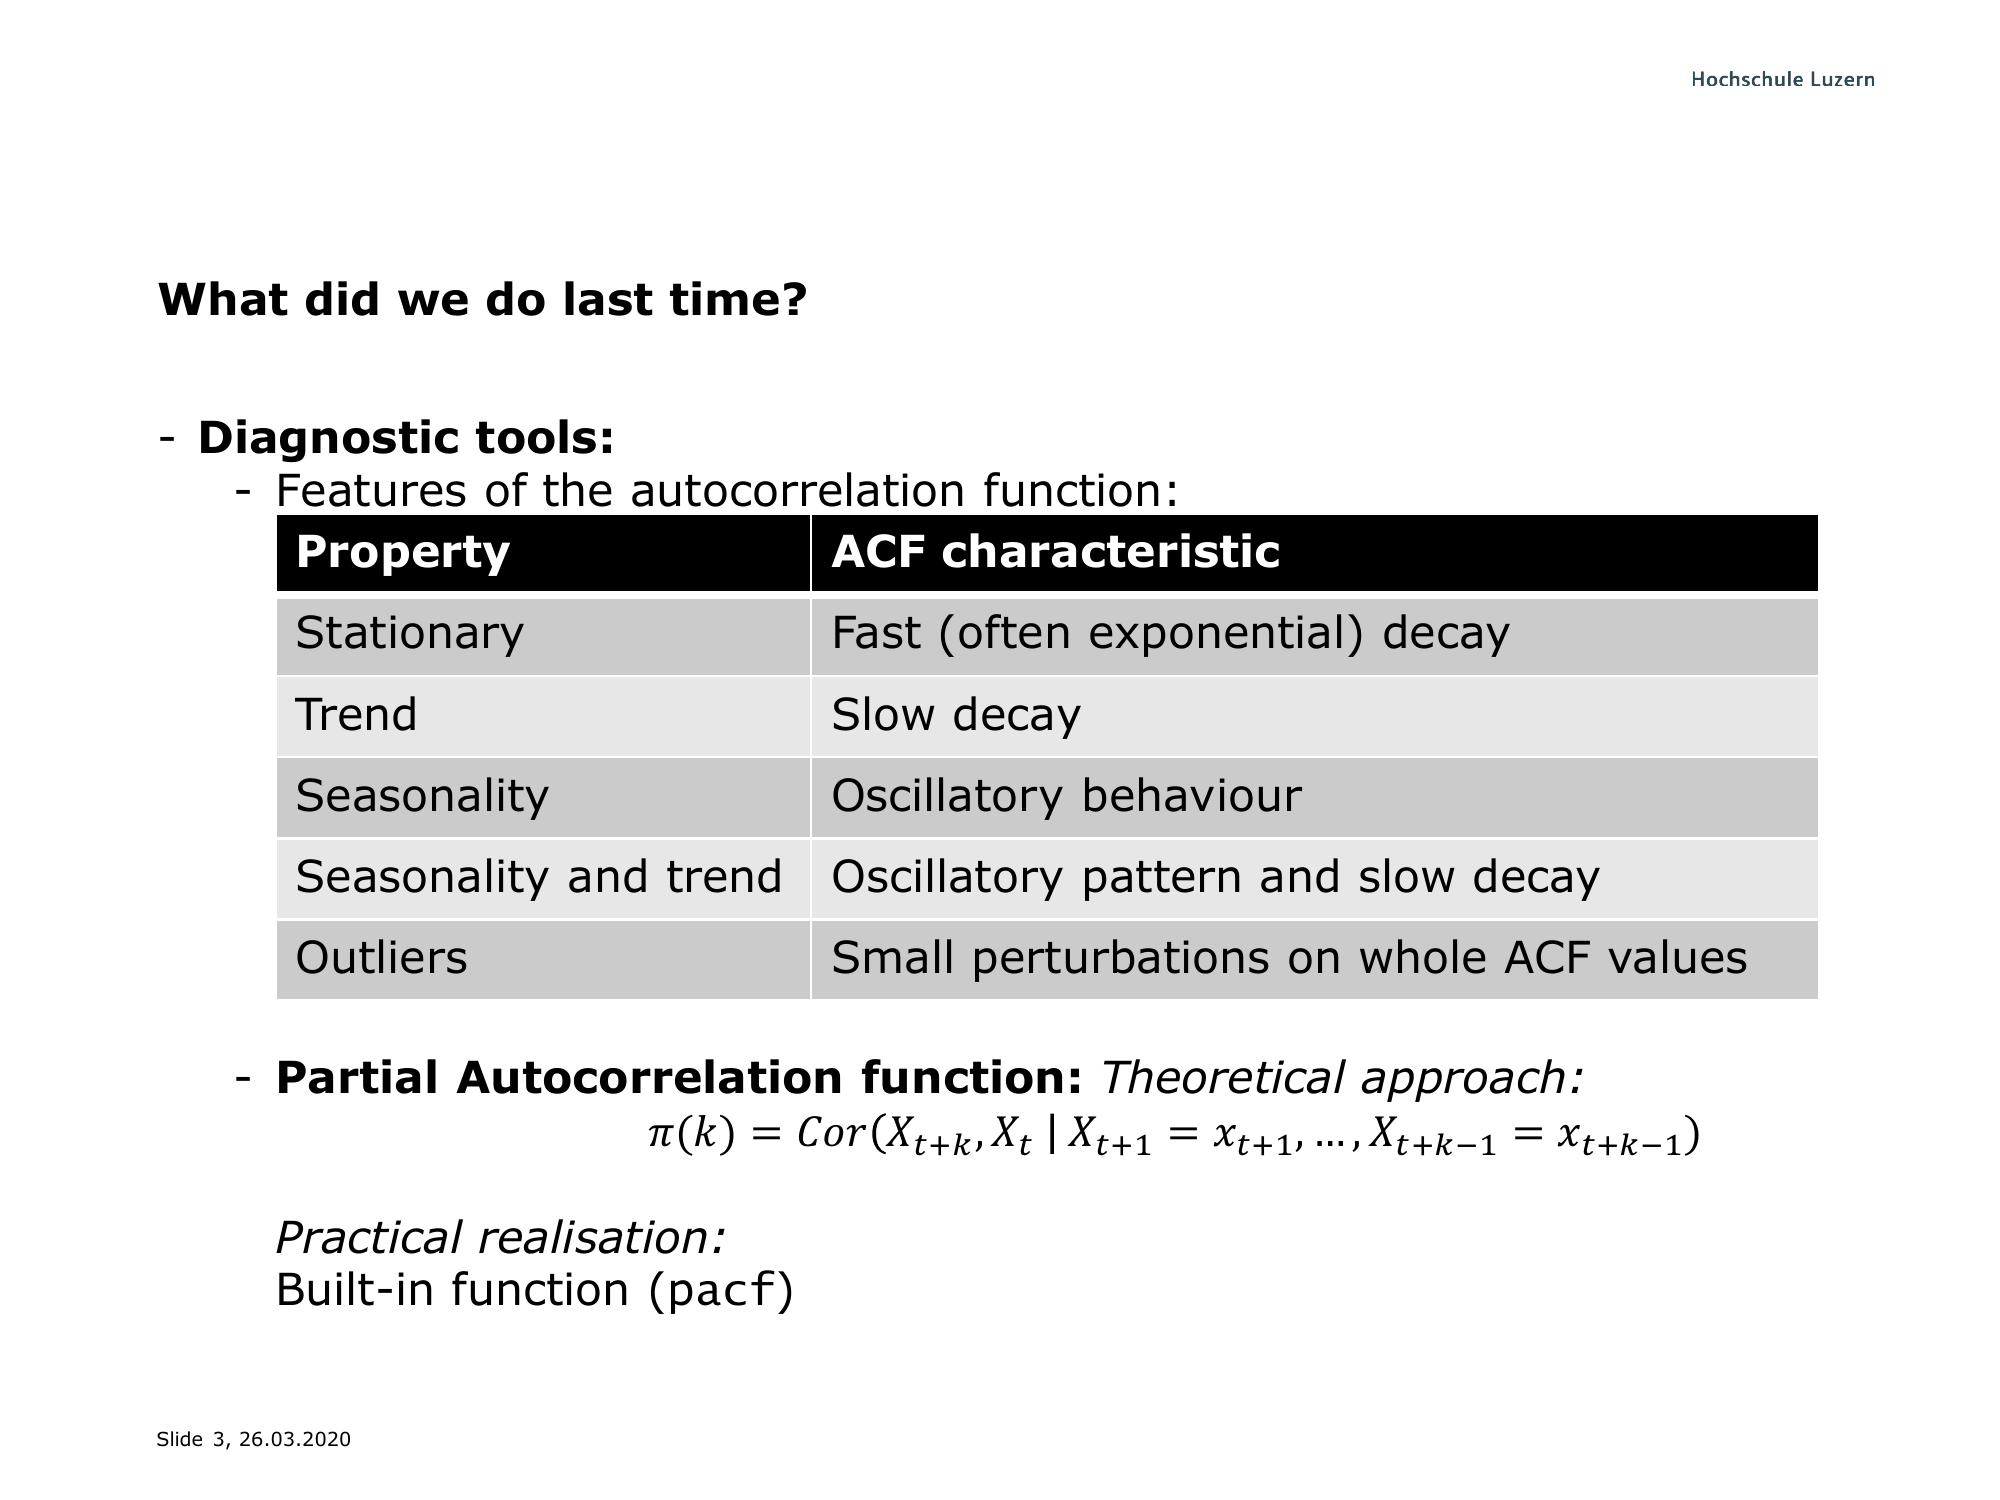Title: (153, 258, 819, 342)
